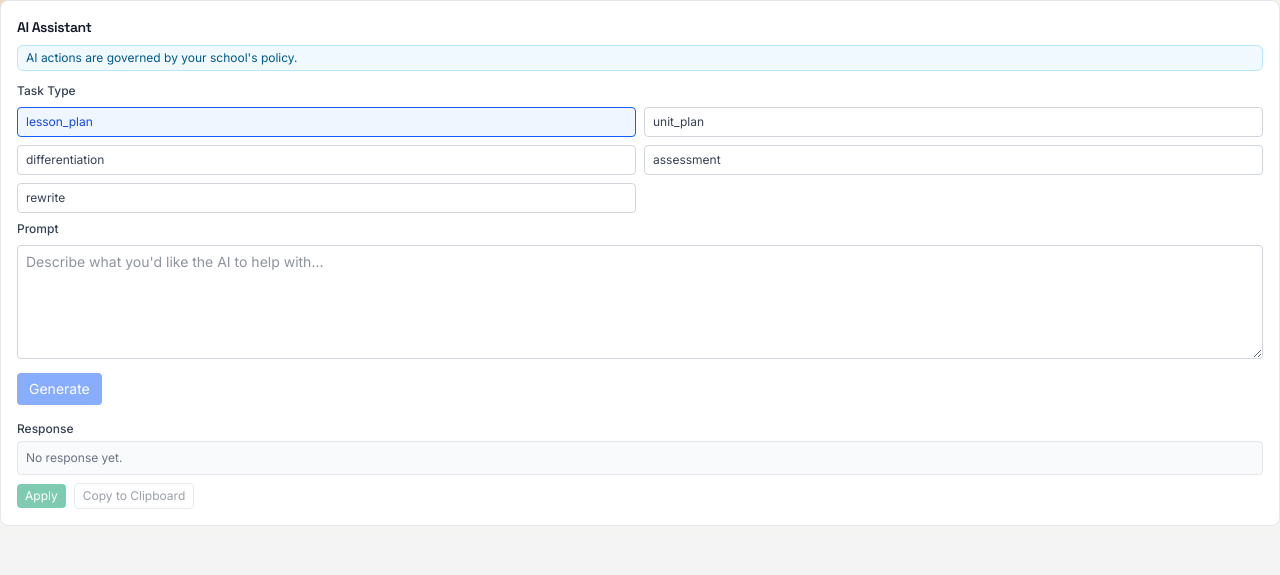
Test: AiAssistantPanel › stop button aborts generation
The width and height of the screenshot is (1280, 575).
Expected: the button "lesson_plan" is enabled, [17, 107, 636, 137]
Type "Generate" into the text box with placeholder "Describe what you'd like the AI to help with...". click: (640, 302)
box: [17, 245, 1263, 359]
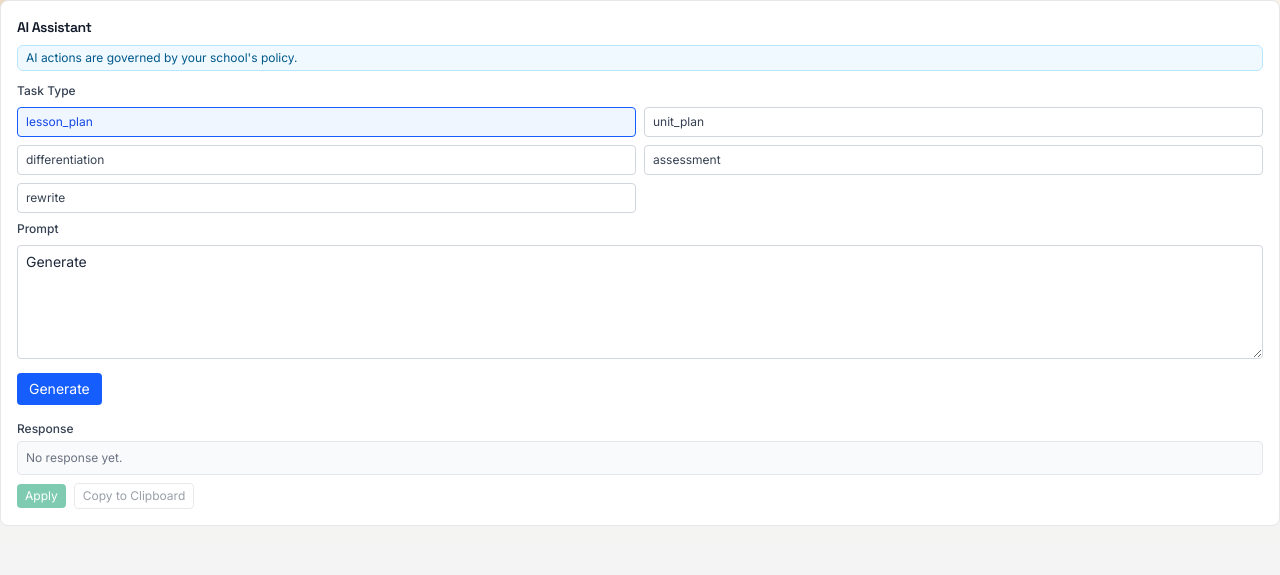
Click the button "Generate". click: (59, 389)
box: [17, 373, 102, 405]
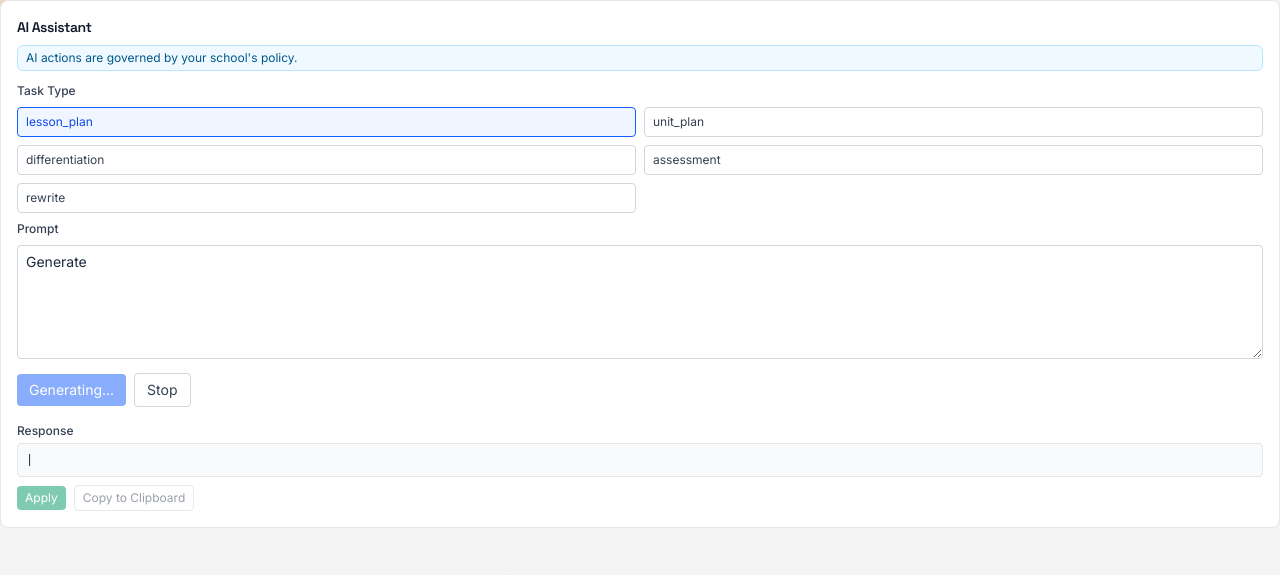
Click the button "Stop". click: (162, 390)
box: [134, 373, 190, 407]
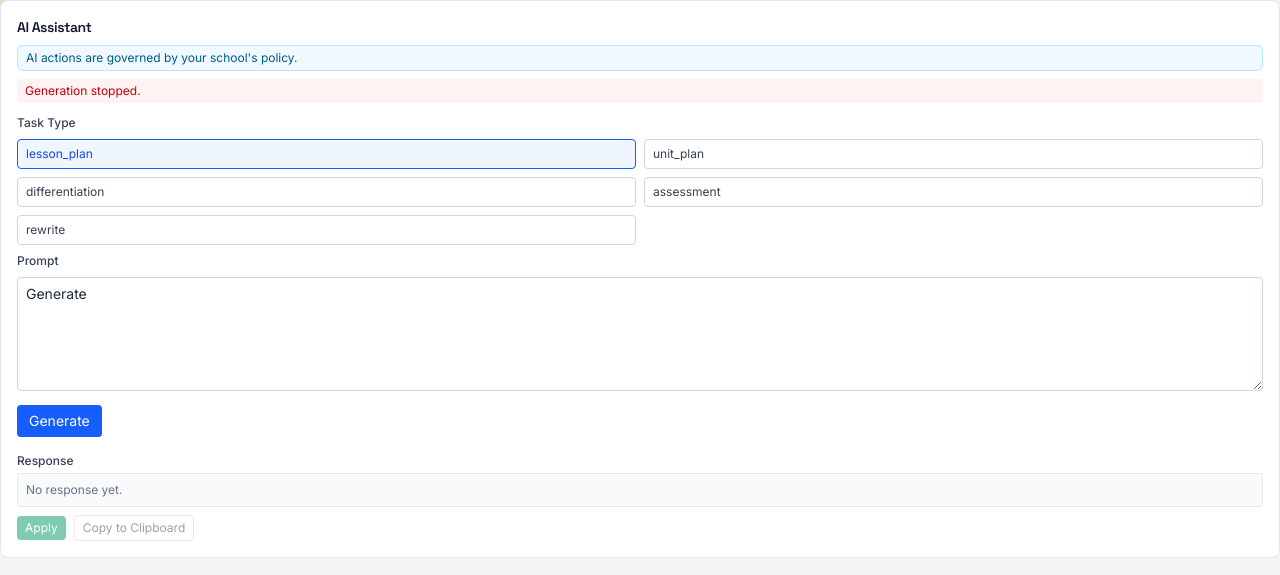
Now the text "Generation stopped." is shown, box [17, 79, 1263, 103]
